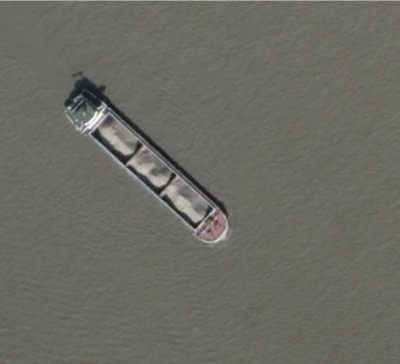boat: (63, 83, 231, 247)
